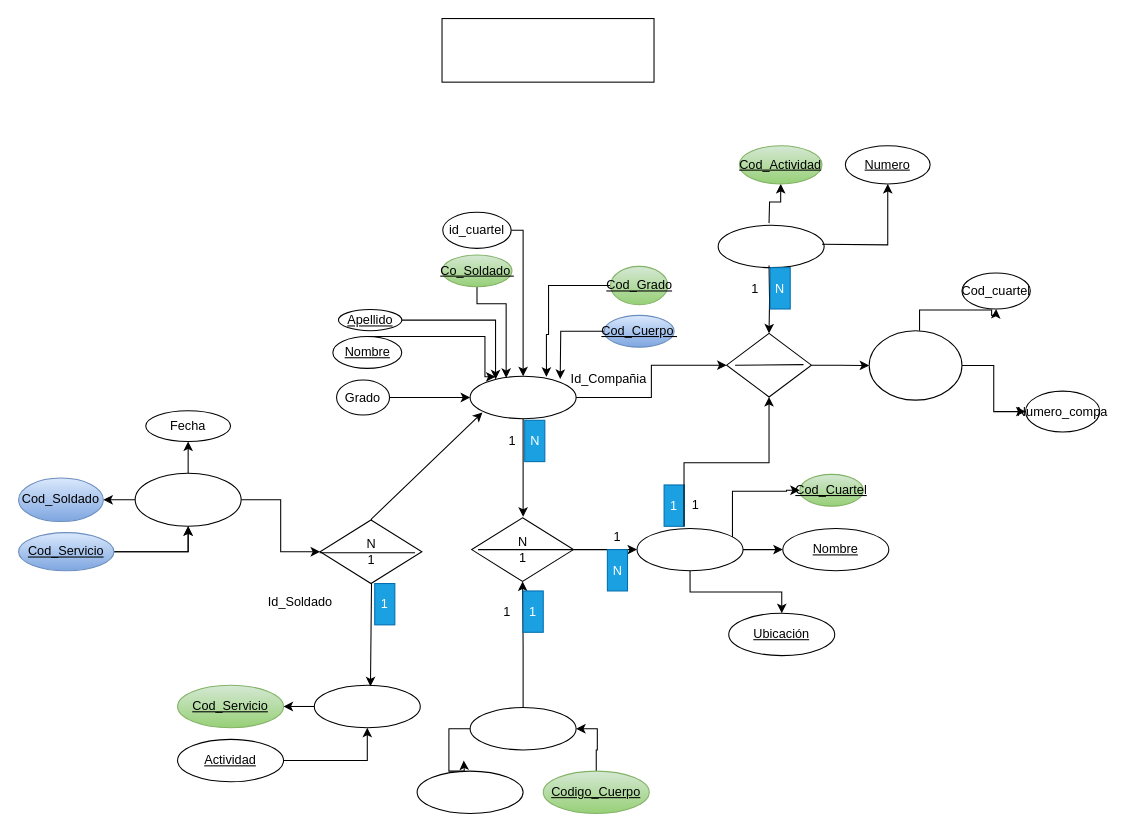
This 1126x832 diagram has some shape labels left out. The shapes that lost their labels are listed below. From the top down, each one's box as (x1, y1, x2, y2) in pixels, then its label:
(441, 17, 654, 82): Entity relations-SOLDADO
(717, 224, 824, 268): Compañias
(726, 332, 811, 397): N N
(868, 330, 962, 400): Compañias_cuarteles
(469, 375, 576, 419): Soldado
(134, 472, 241, 526): Servicios-soldados
(636, 527, 743, 571): Cuarteles
(313, 684, 420, 728): Servicios
(469, 706, 576, 750): Cuerpo de Ejercito
(416, 770, 523, 814): Denominacion
